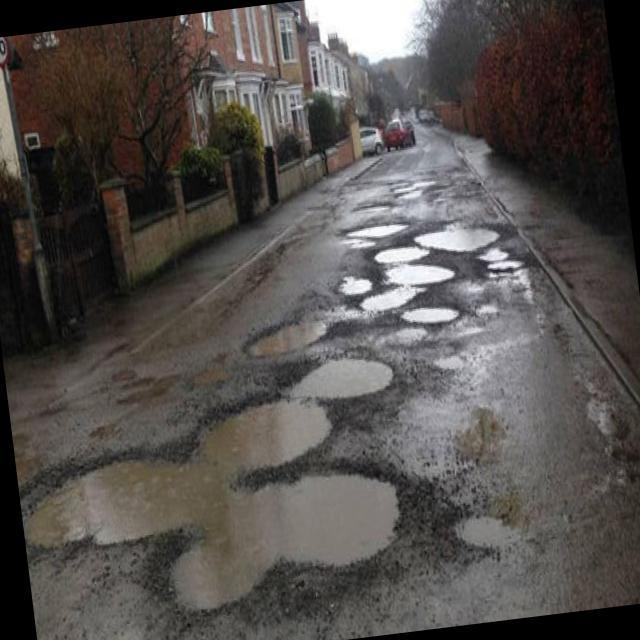Pothole: (11, 376, 412, 636), (295, 345, 396, 407), (245, 302, 333, 356), (416, 213, 502, 259), (448, 499, 516, 556), (384, 254, 458, 295), (338, 214, 412, 251), (356, 282, 422, 320), (371, 236, 434, 272), (400, 296, 462, 332), (338, 265, 373, 301), (488, 252, 522, 279), (479, 243, 509, 264)
